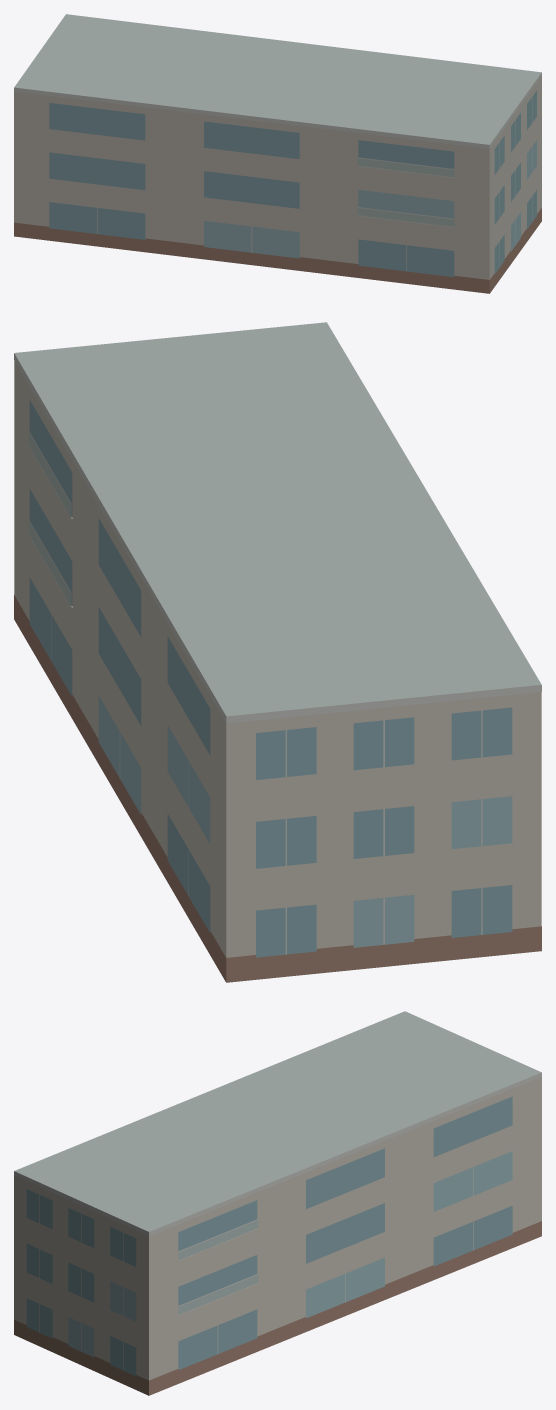
File: survey-upis-32614069.glb
The picture shows the model from 3 angles, top to bottom: view 1: azimuth 30°, elevation 25°; view 2: azimuth 150°, elevation 25°; view 3: azimuth 270°, elevation 25°; orthographic projection. The views are drawn at different scales.
Parts seen in each view (by area): view 1: survey-upis-32614069.tmp; view 2: survey-upis-32614069.tmp; view 3: survey-upis-32614069.tmp.
Part boxes in pixels (<box>): survey-upis-32614069.tmp: <box>14,14,541,293</box>; survey-upis-32614069.tmp: <box>14,322,541,982</box>; survey-upis-32614069.tmp: <box>14,1011,541,1395</box>.
Bounding box in the file's own units: 26.46 × 9.15 × 26.73.
